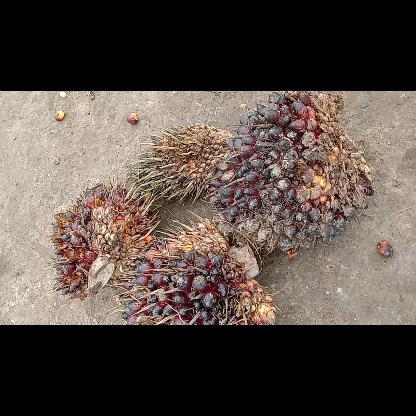Kurang masak: (211, 91, 373, 253), (119, 220, 277, 324)
TBS abnormal: (137, 124, 235, 204)
TBS masak: (47, 182, 153, 300)
